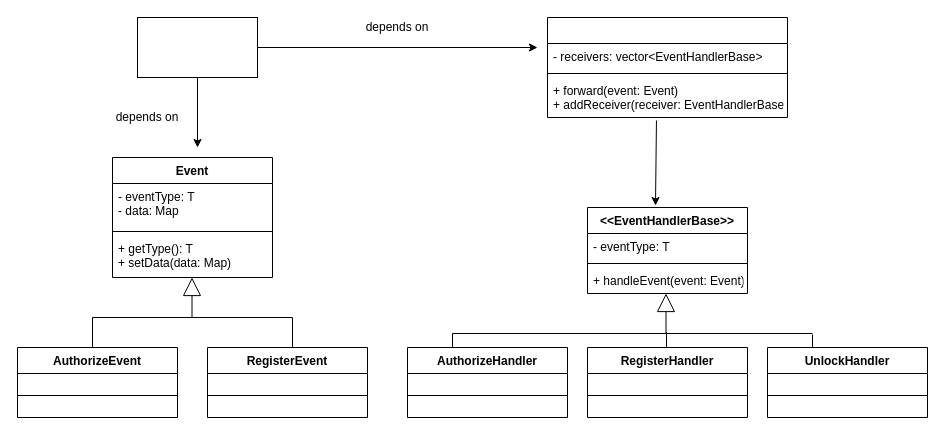
Image size: 945x435. Some labels were removed from this diagram. The shapes that lost their labels are listed below. From the top down, each one's box as (x1, y1, x2, y2) in pixels, then its label:
(136, 16, 258, 78): JNI entry method to cpp code
(546, 16, 788, 118): SystemEventReceiver
